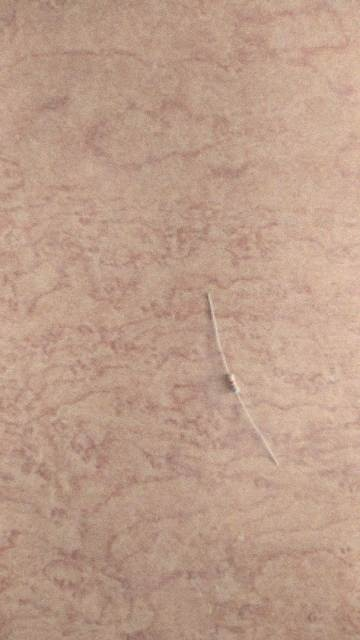resistor: (226, 373, 240, 393)
